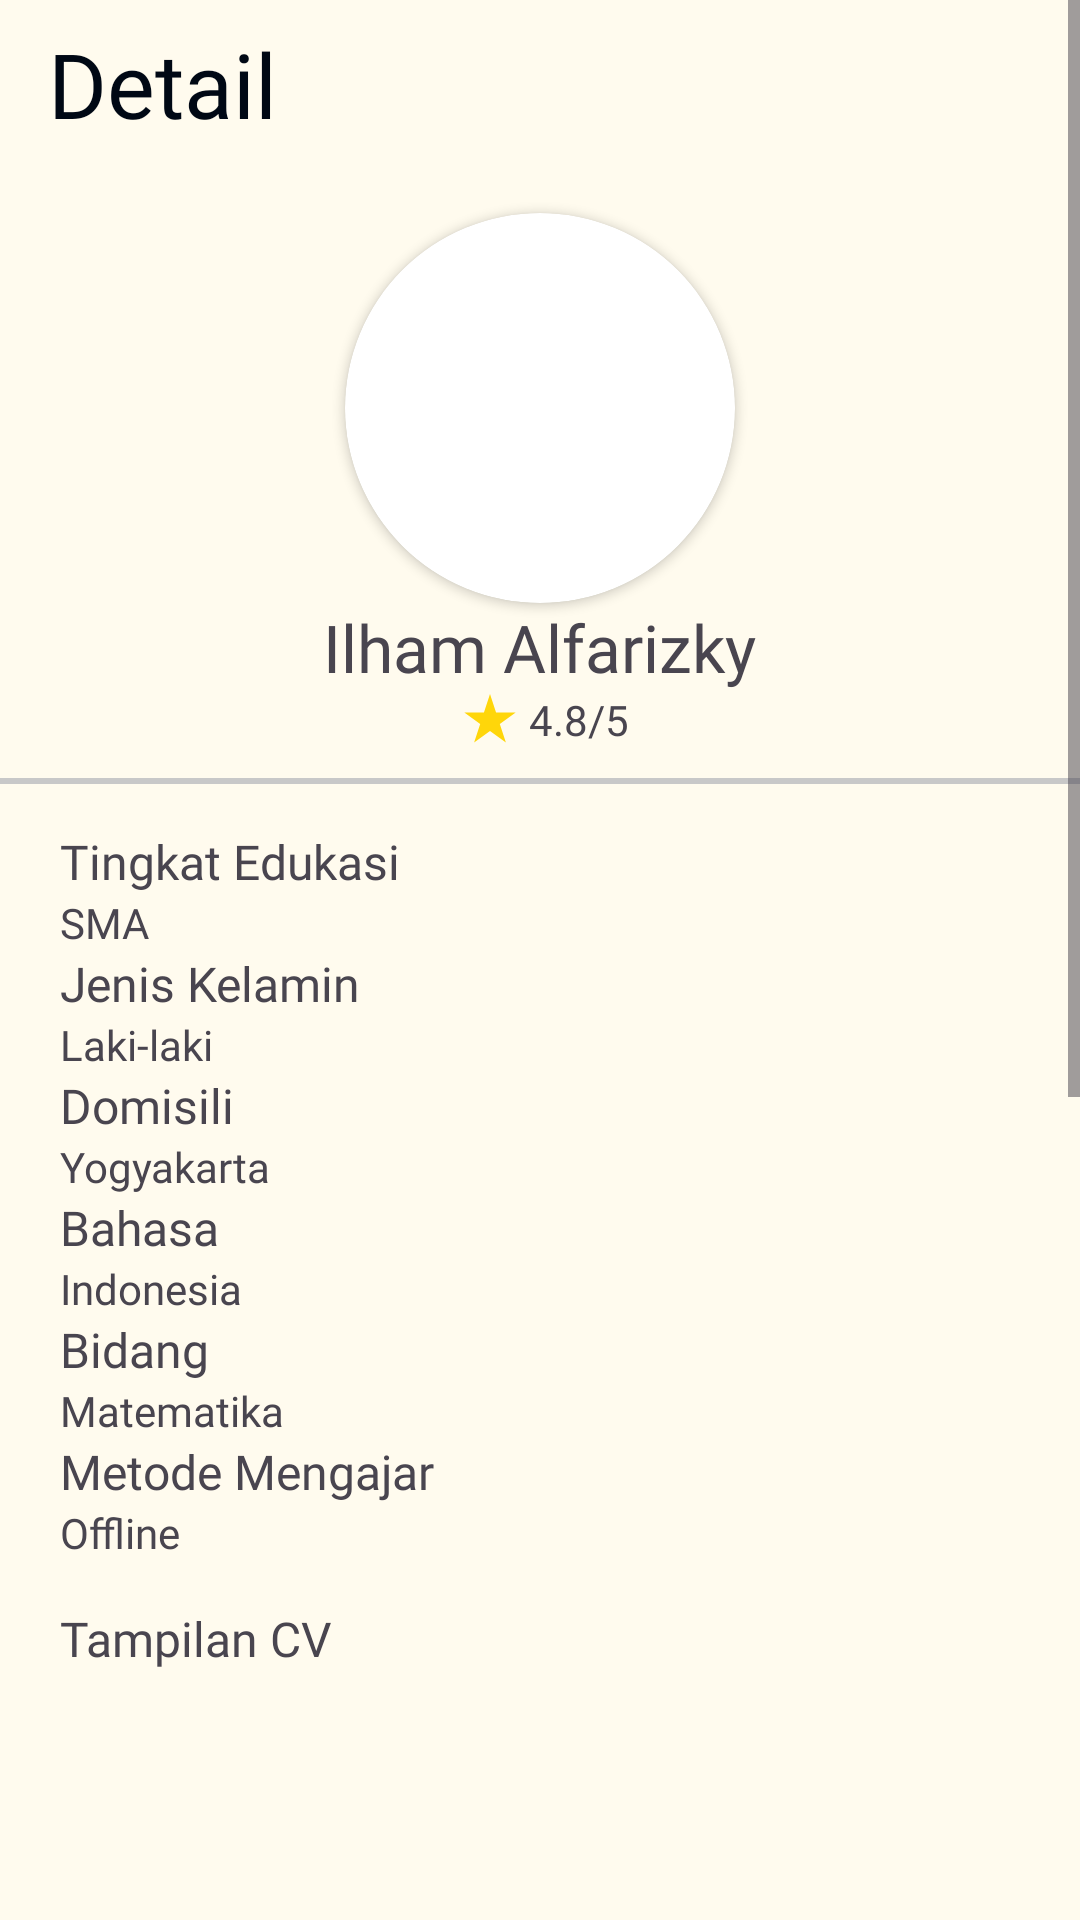

Icon click points for this 1080px×1920px phone screenshot, format (x,y):
star: (490,718)
